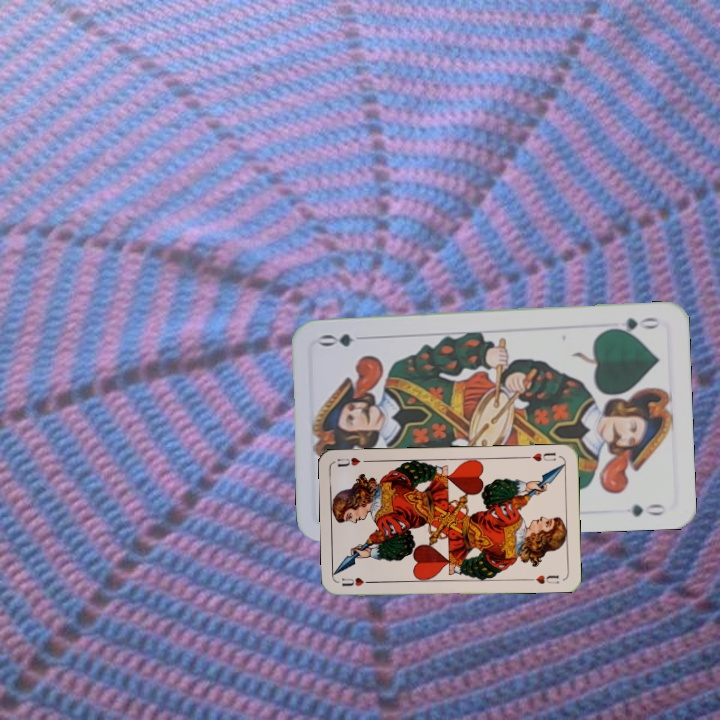GO: (604, 313, 663, 336)
HU: (338, 573, 376, 589), (522, 449, 558, 464)
